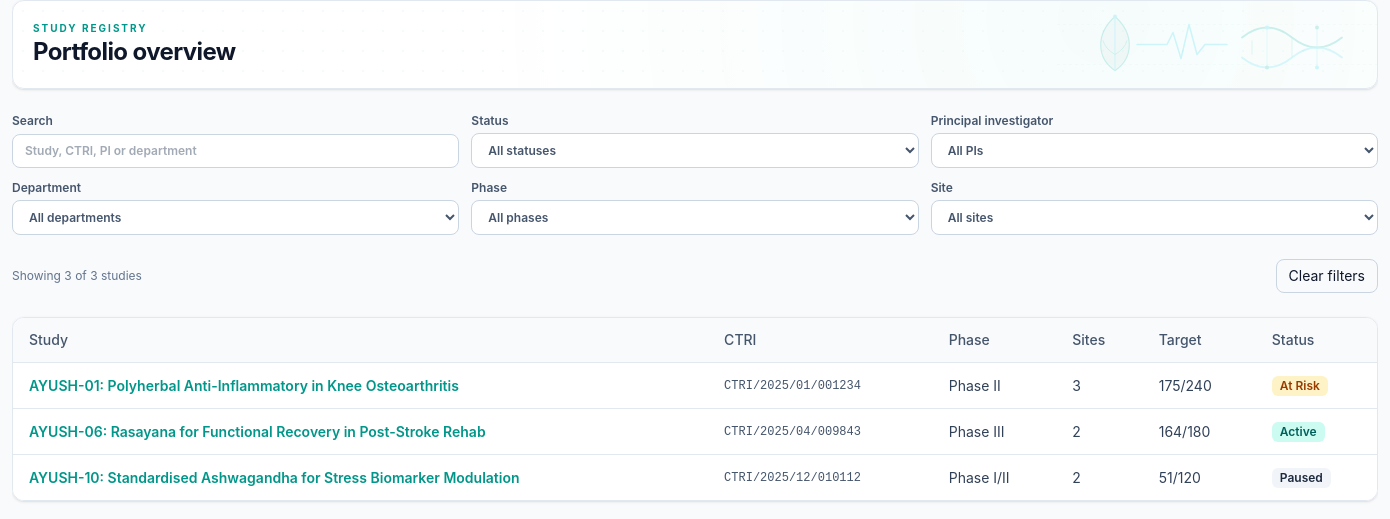
Scenario: portfolio filters › shows an empty state and clears filters
Type "no matching study" into the field named "Search studies".
click(236, 151); type("no matching study")  # box [12,134,459,168]
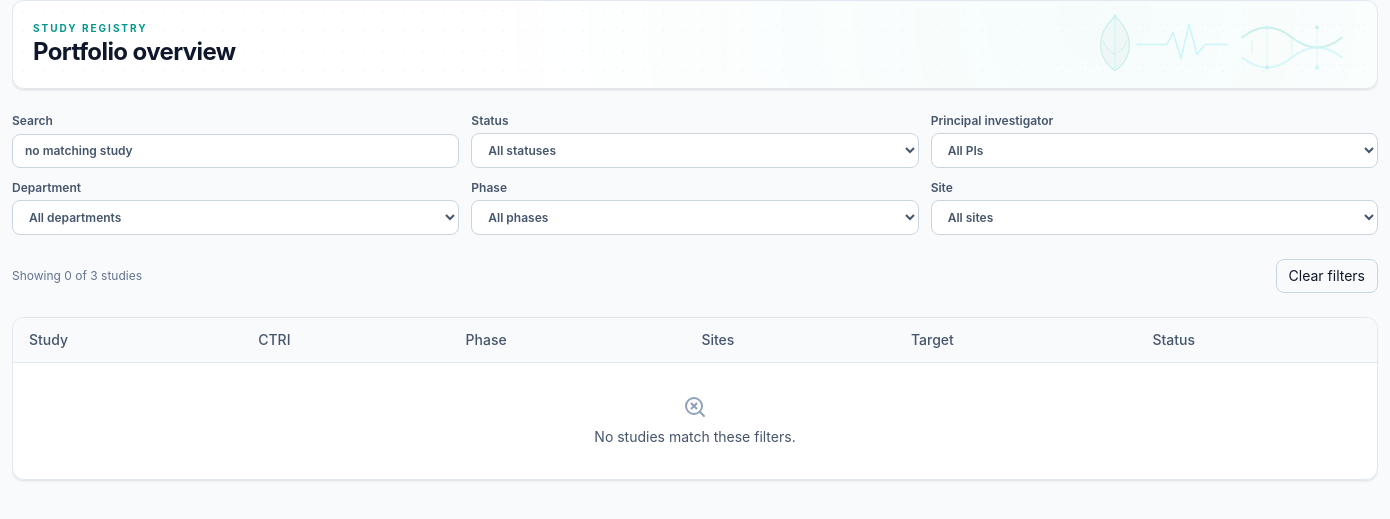
Result: the text "Showing 0 of 3 studies" is shown at [12,268,142,284]
Result: the text "No studies match these filters." is shown at [594,427,796,447]
Click the button "Clear filters".
click(1327, 276)  # box [1276,259,1378,293]
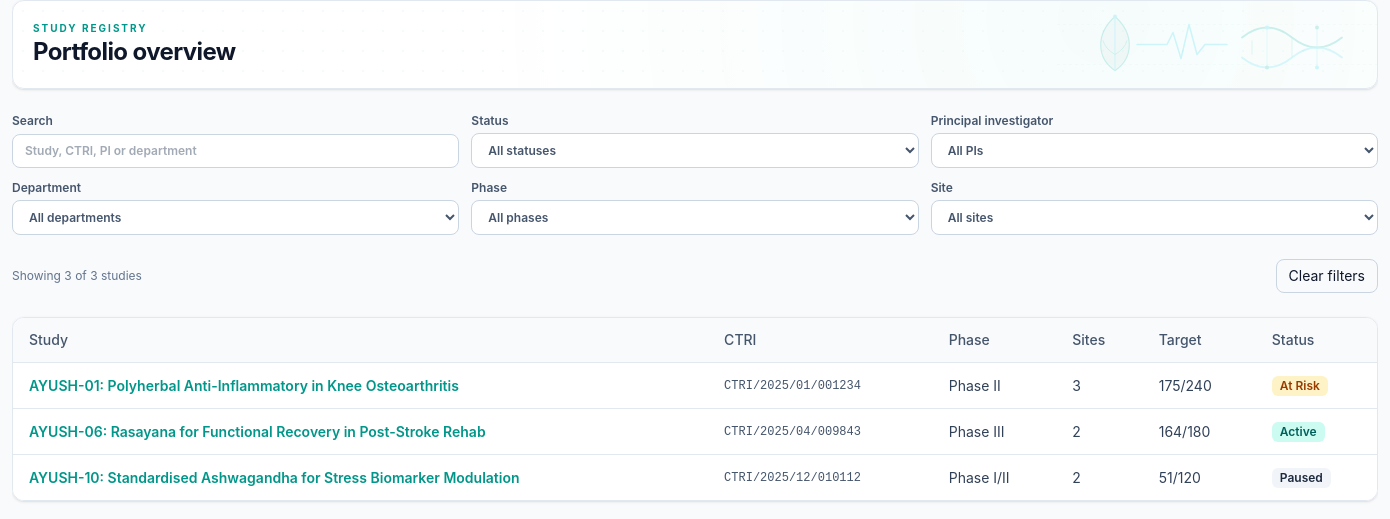
Result: the text "Showing 3 of 3 studies" is shown at [12,268,142,284]
